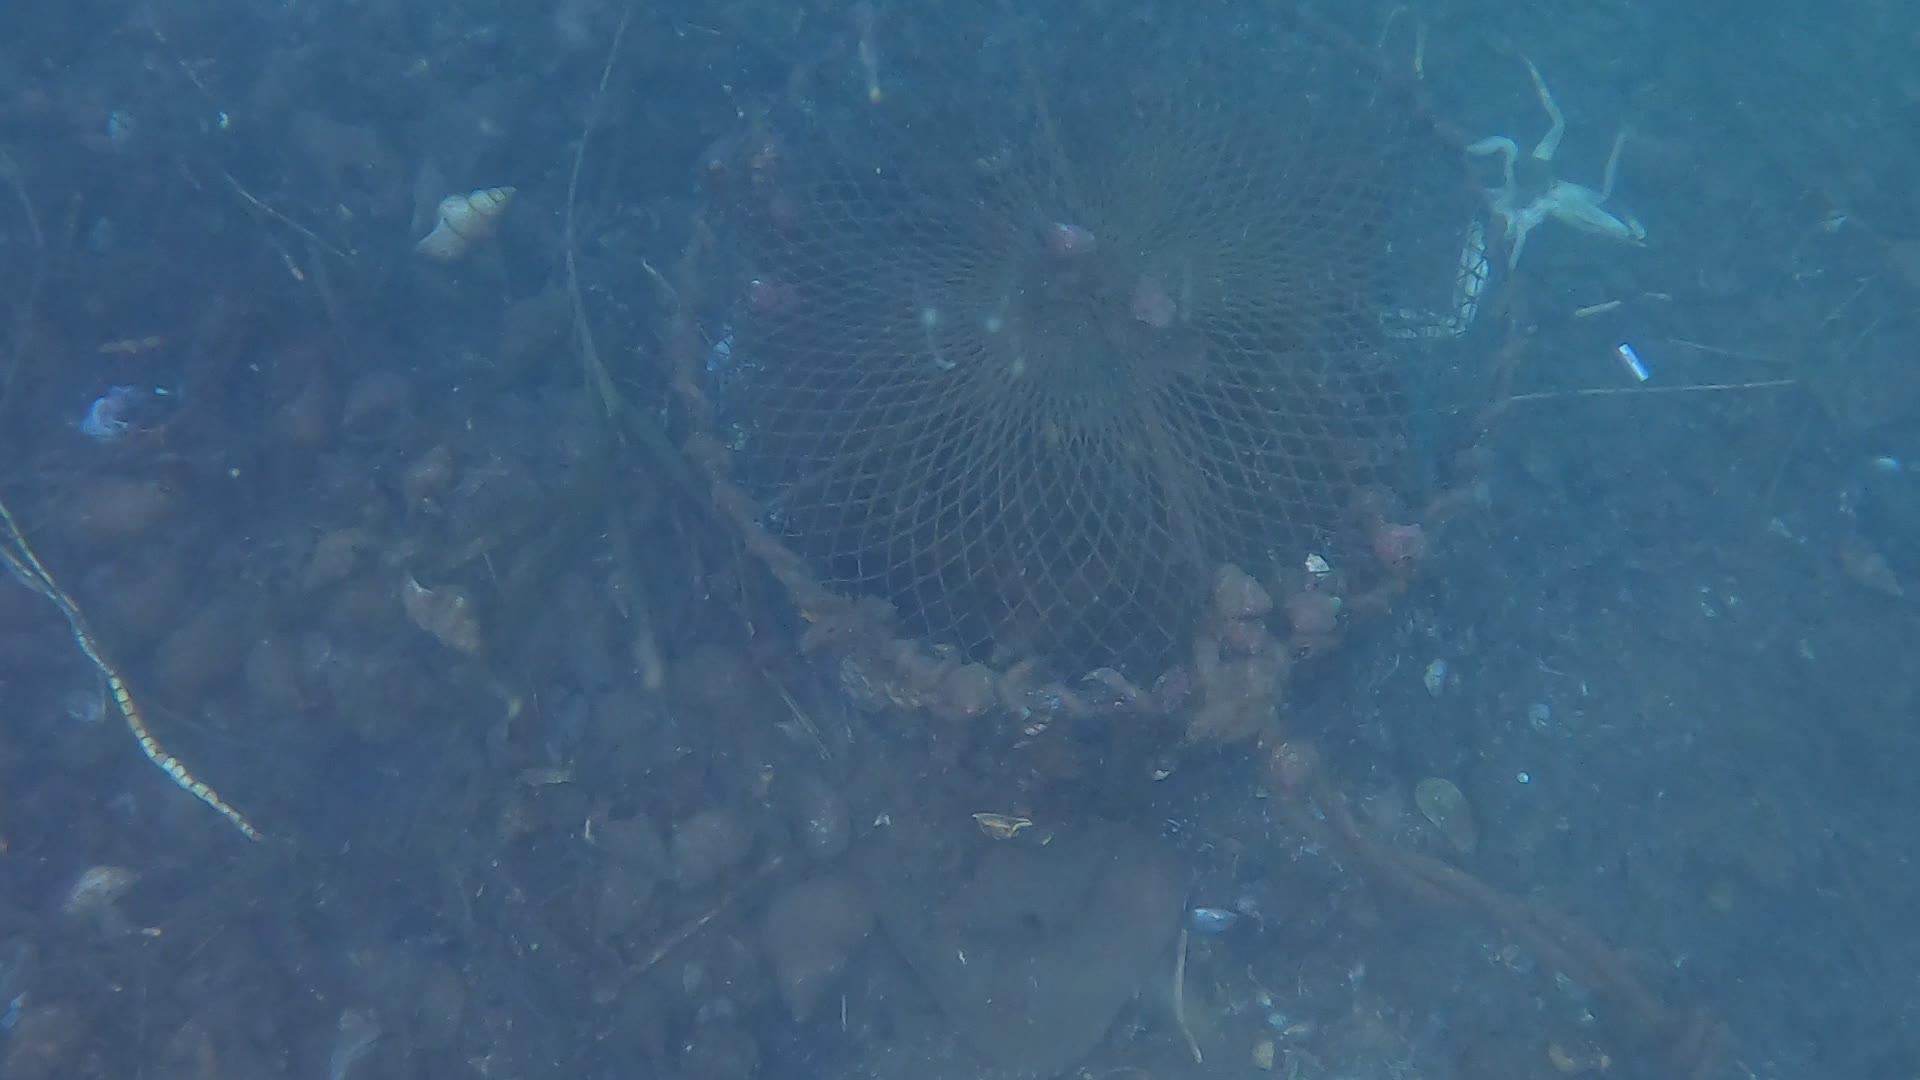bundle of ropes: (1255, 736, 1764, 1079)
circular fish trap: (659, 0, 1538, 727)
